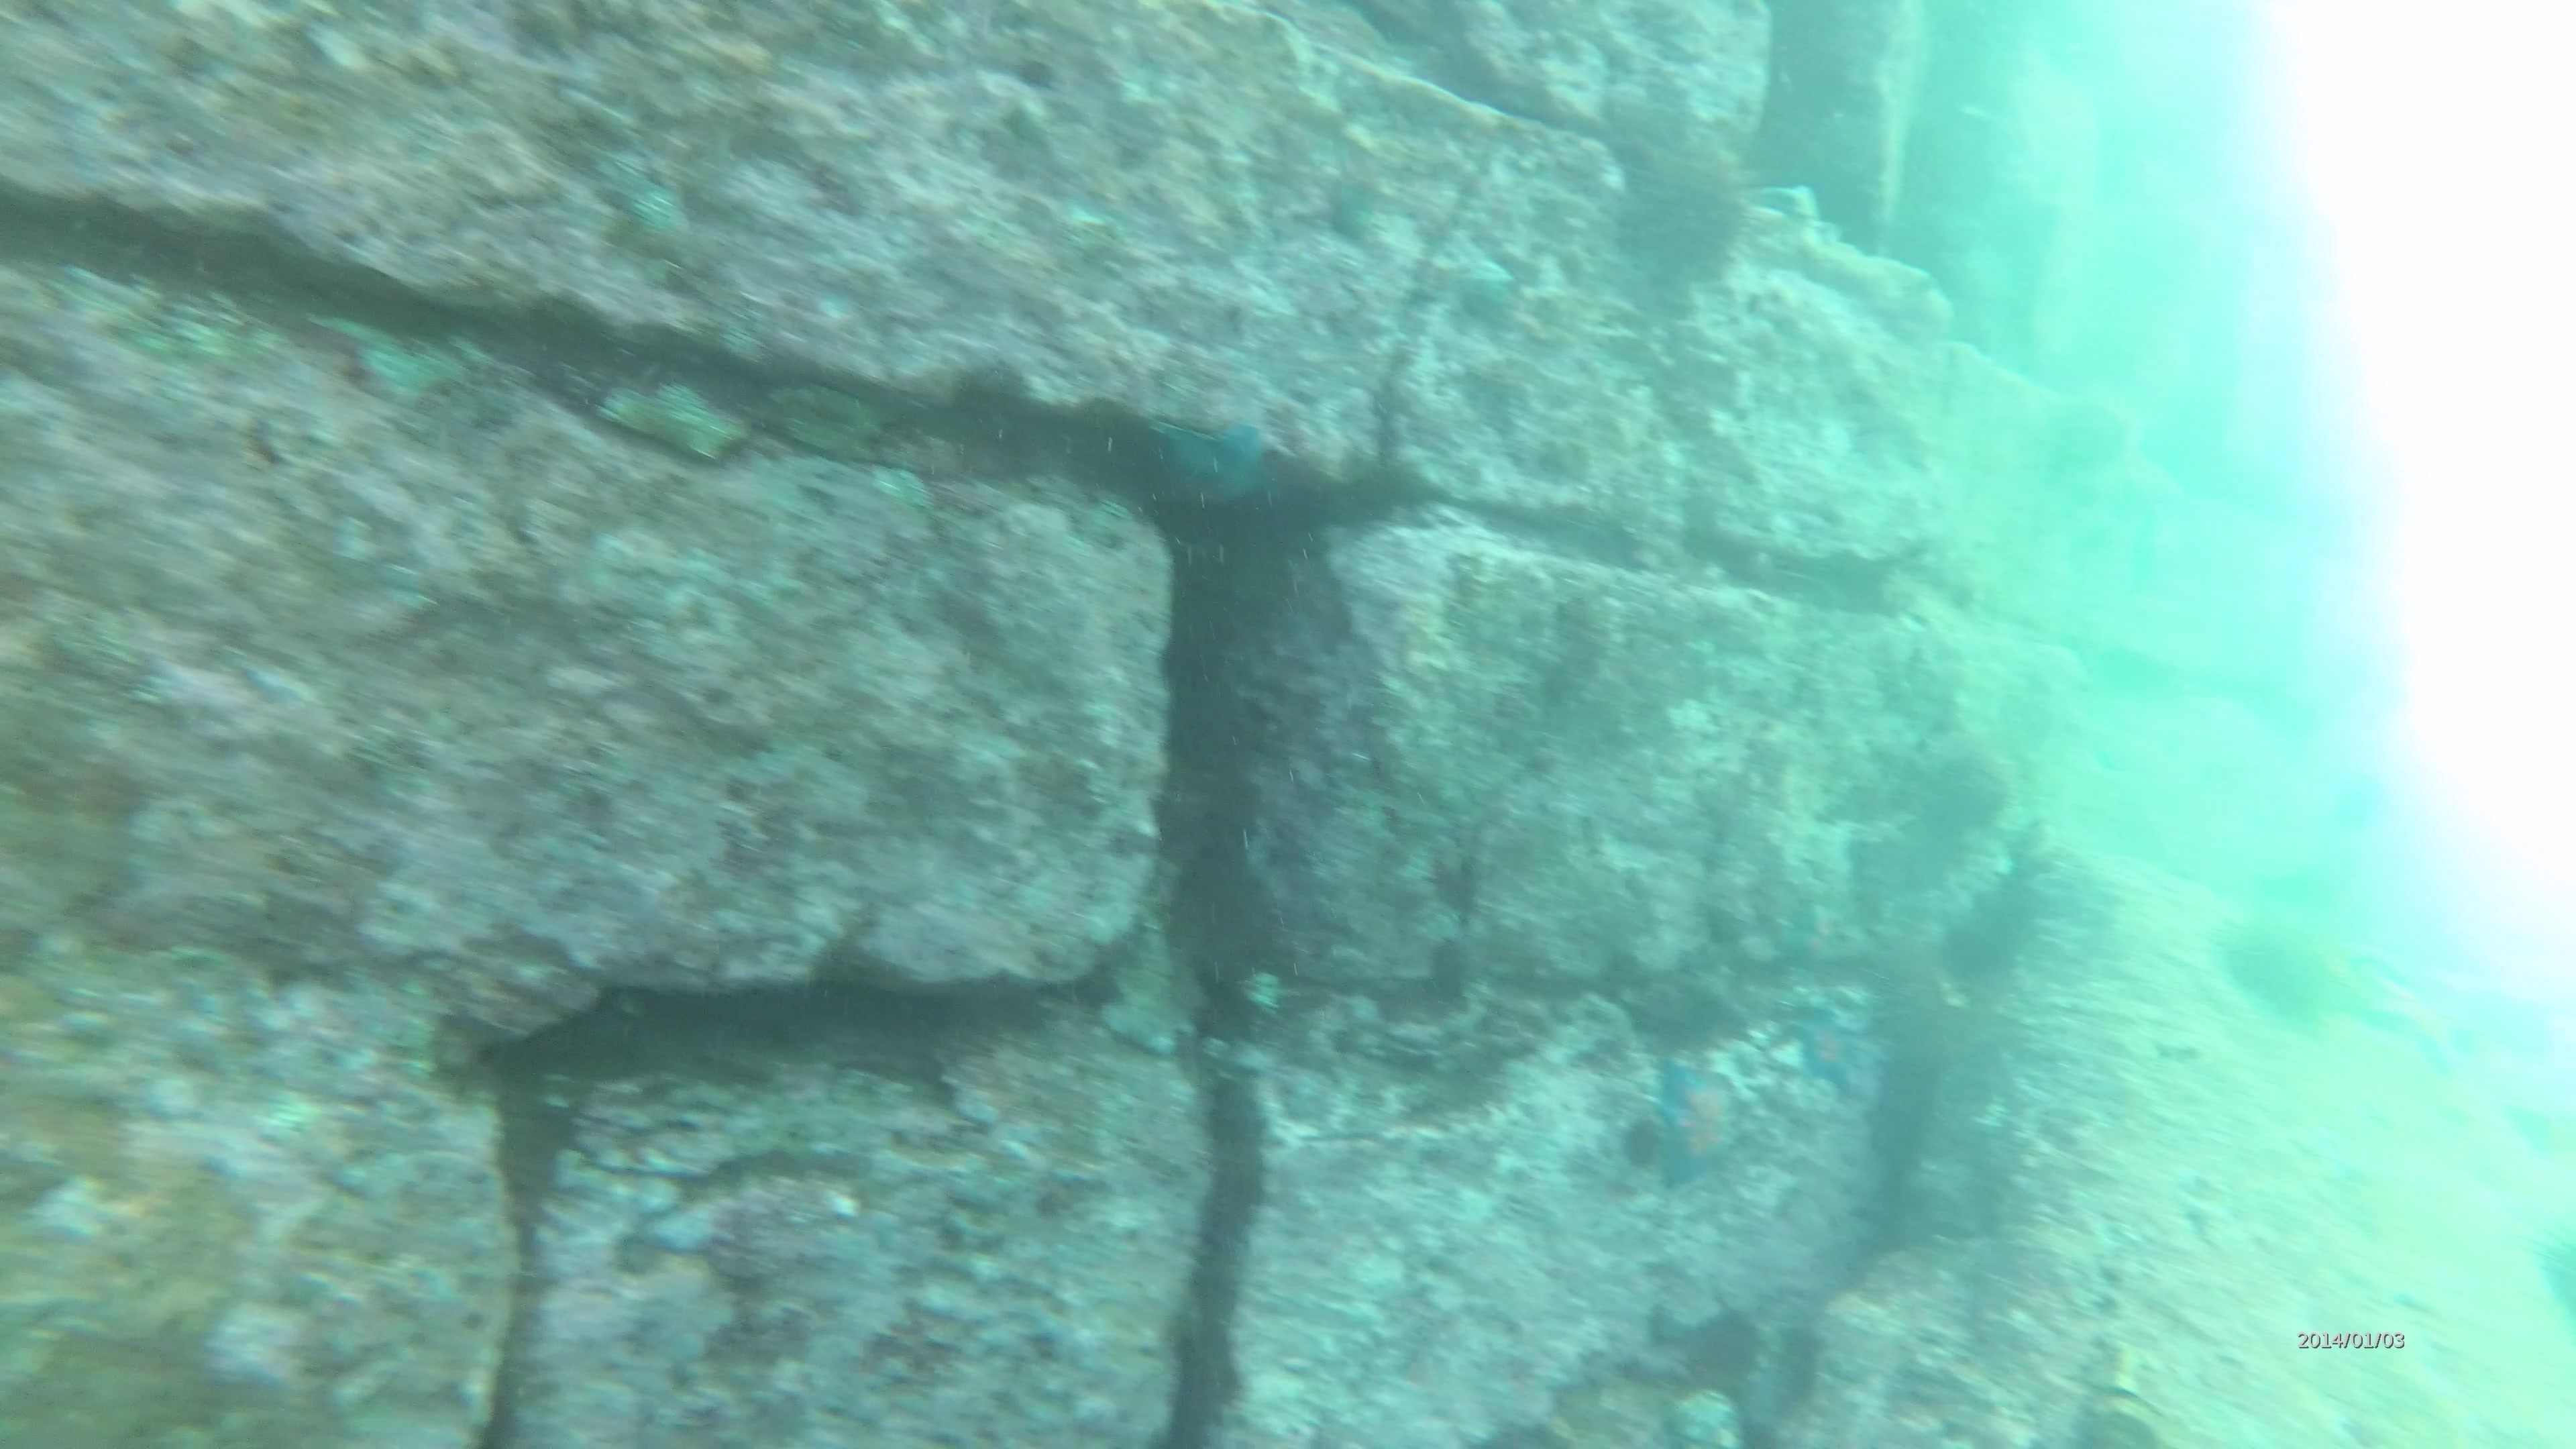echinus: (1608, 122, 1767, 294), (2212, 911, 2341, 1033)
starfish: (1143, 398, 1311, 518), (2346, 952, 2488, 1081), (1635, 1049, 1757, 1196), (1780, 994, 1884, 1106)
